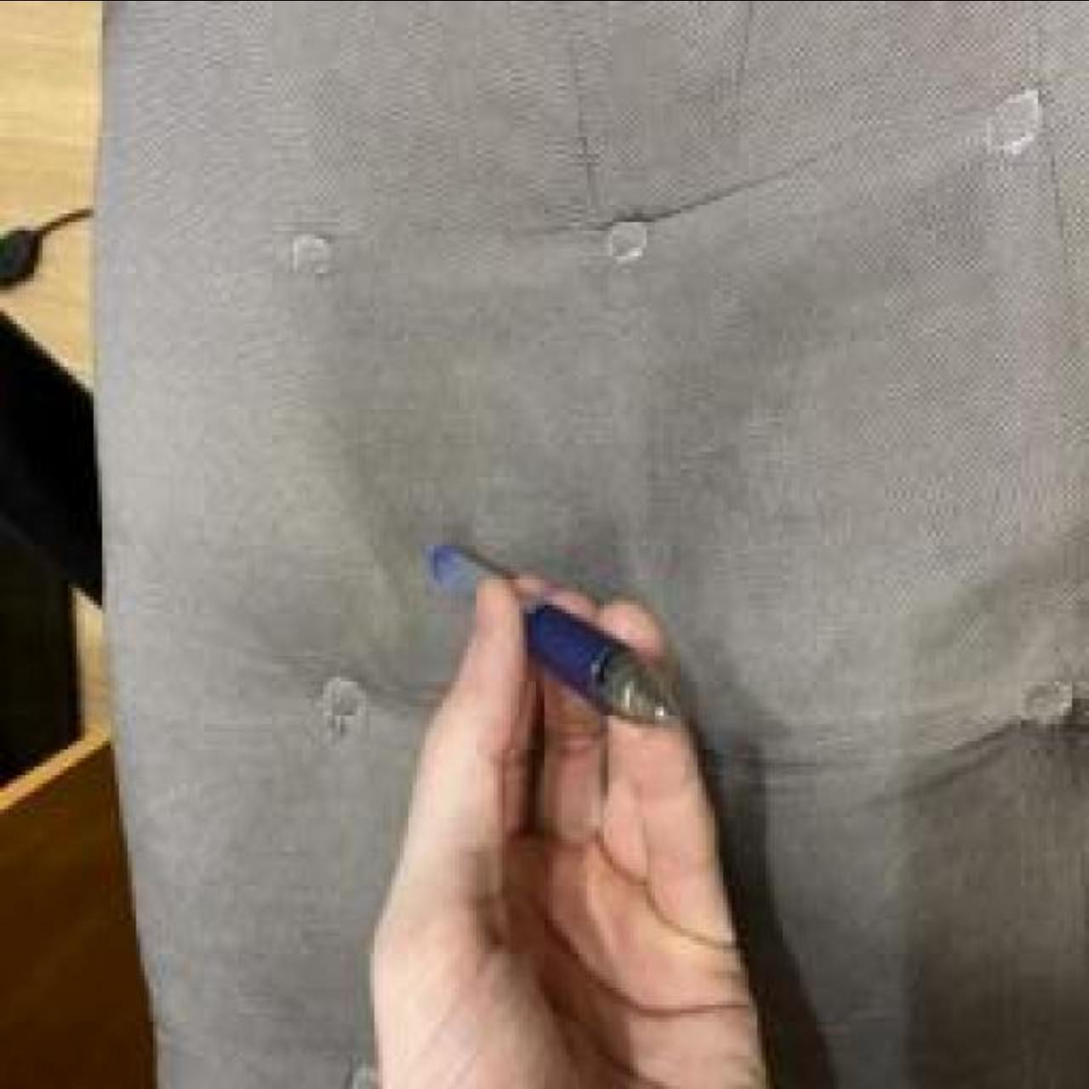pen: (425, 539, 689, 732)
